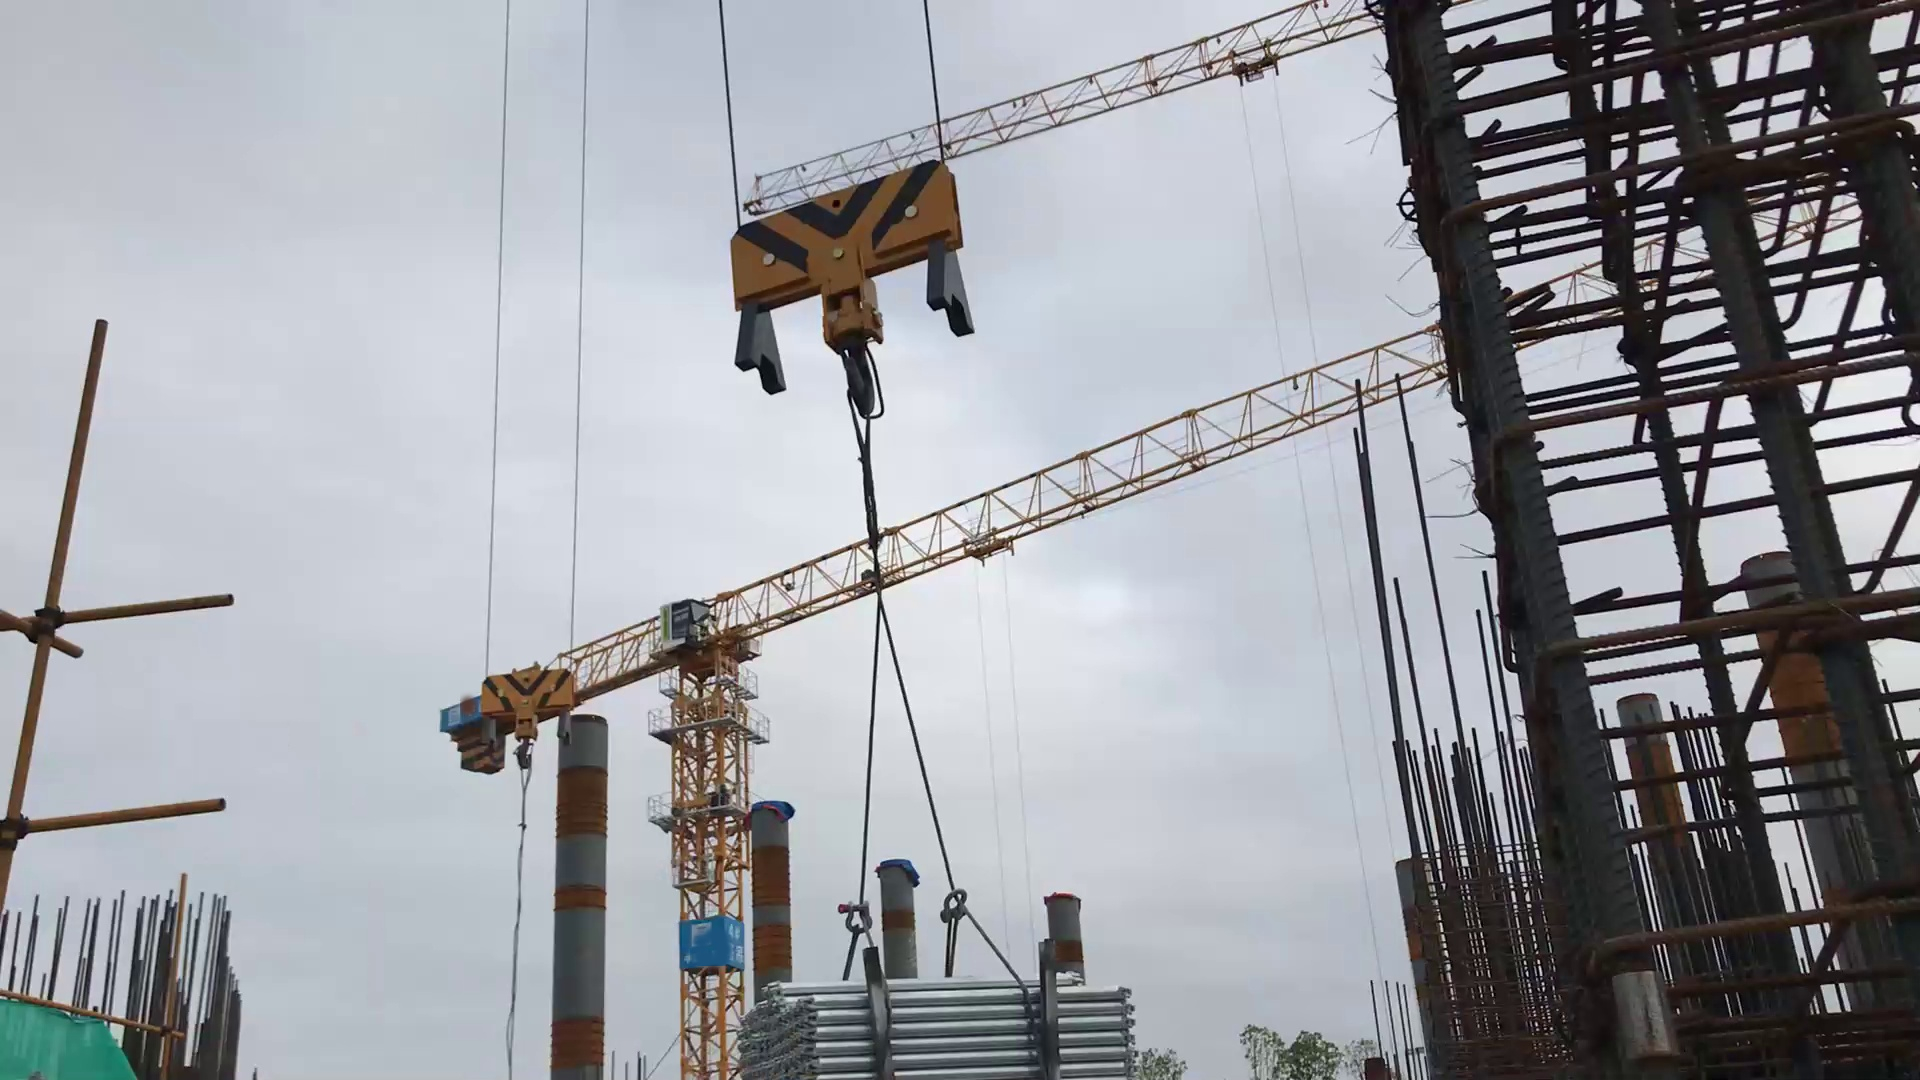hook: (700, 154, 989, 427), (456, 645, 592, 750)
hopper: (713, 949, 1145, 1080)
